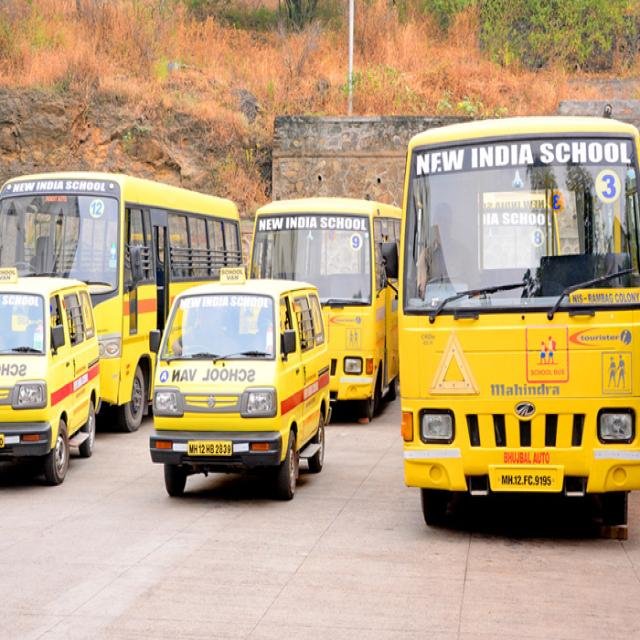bus: (400, 116, 640, 538), (0, 173, 242, 429), (150, 279, 330, 497), (250, 198, 401, 421), (0, 279, 100, 484)
